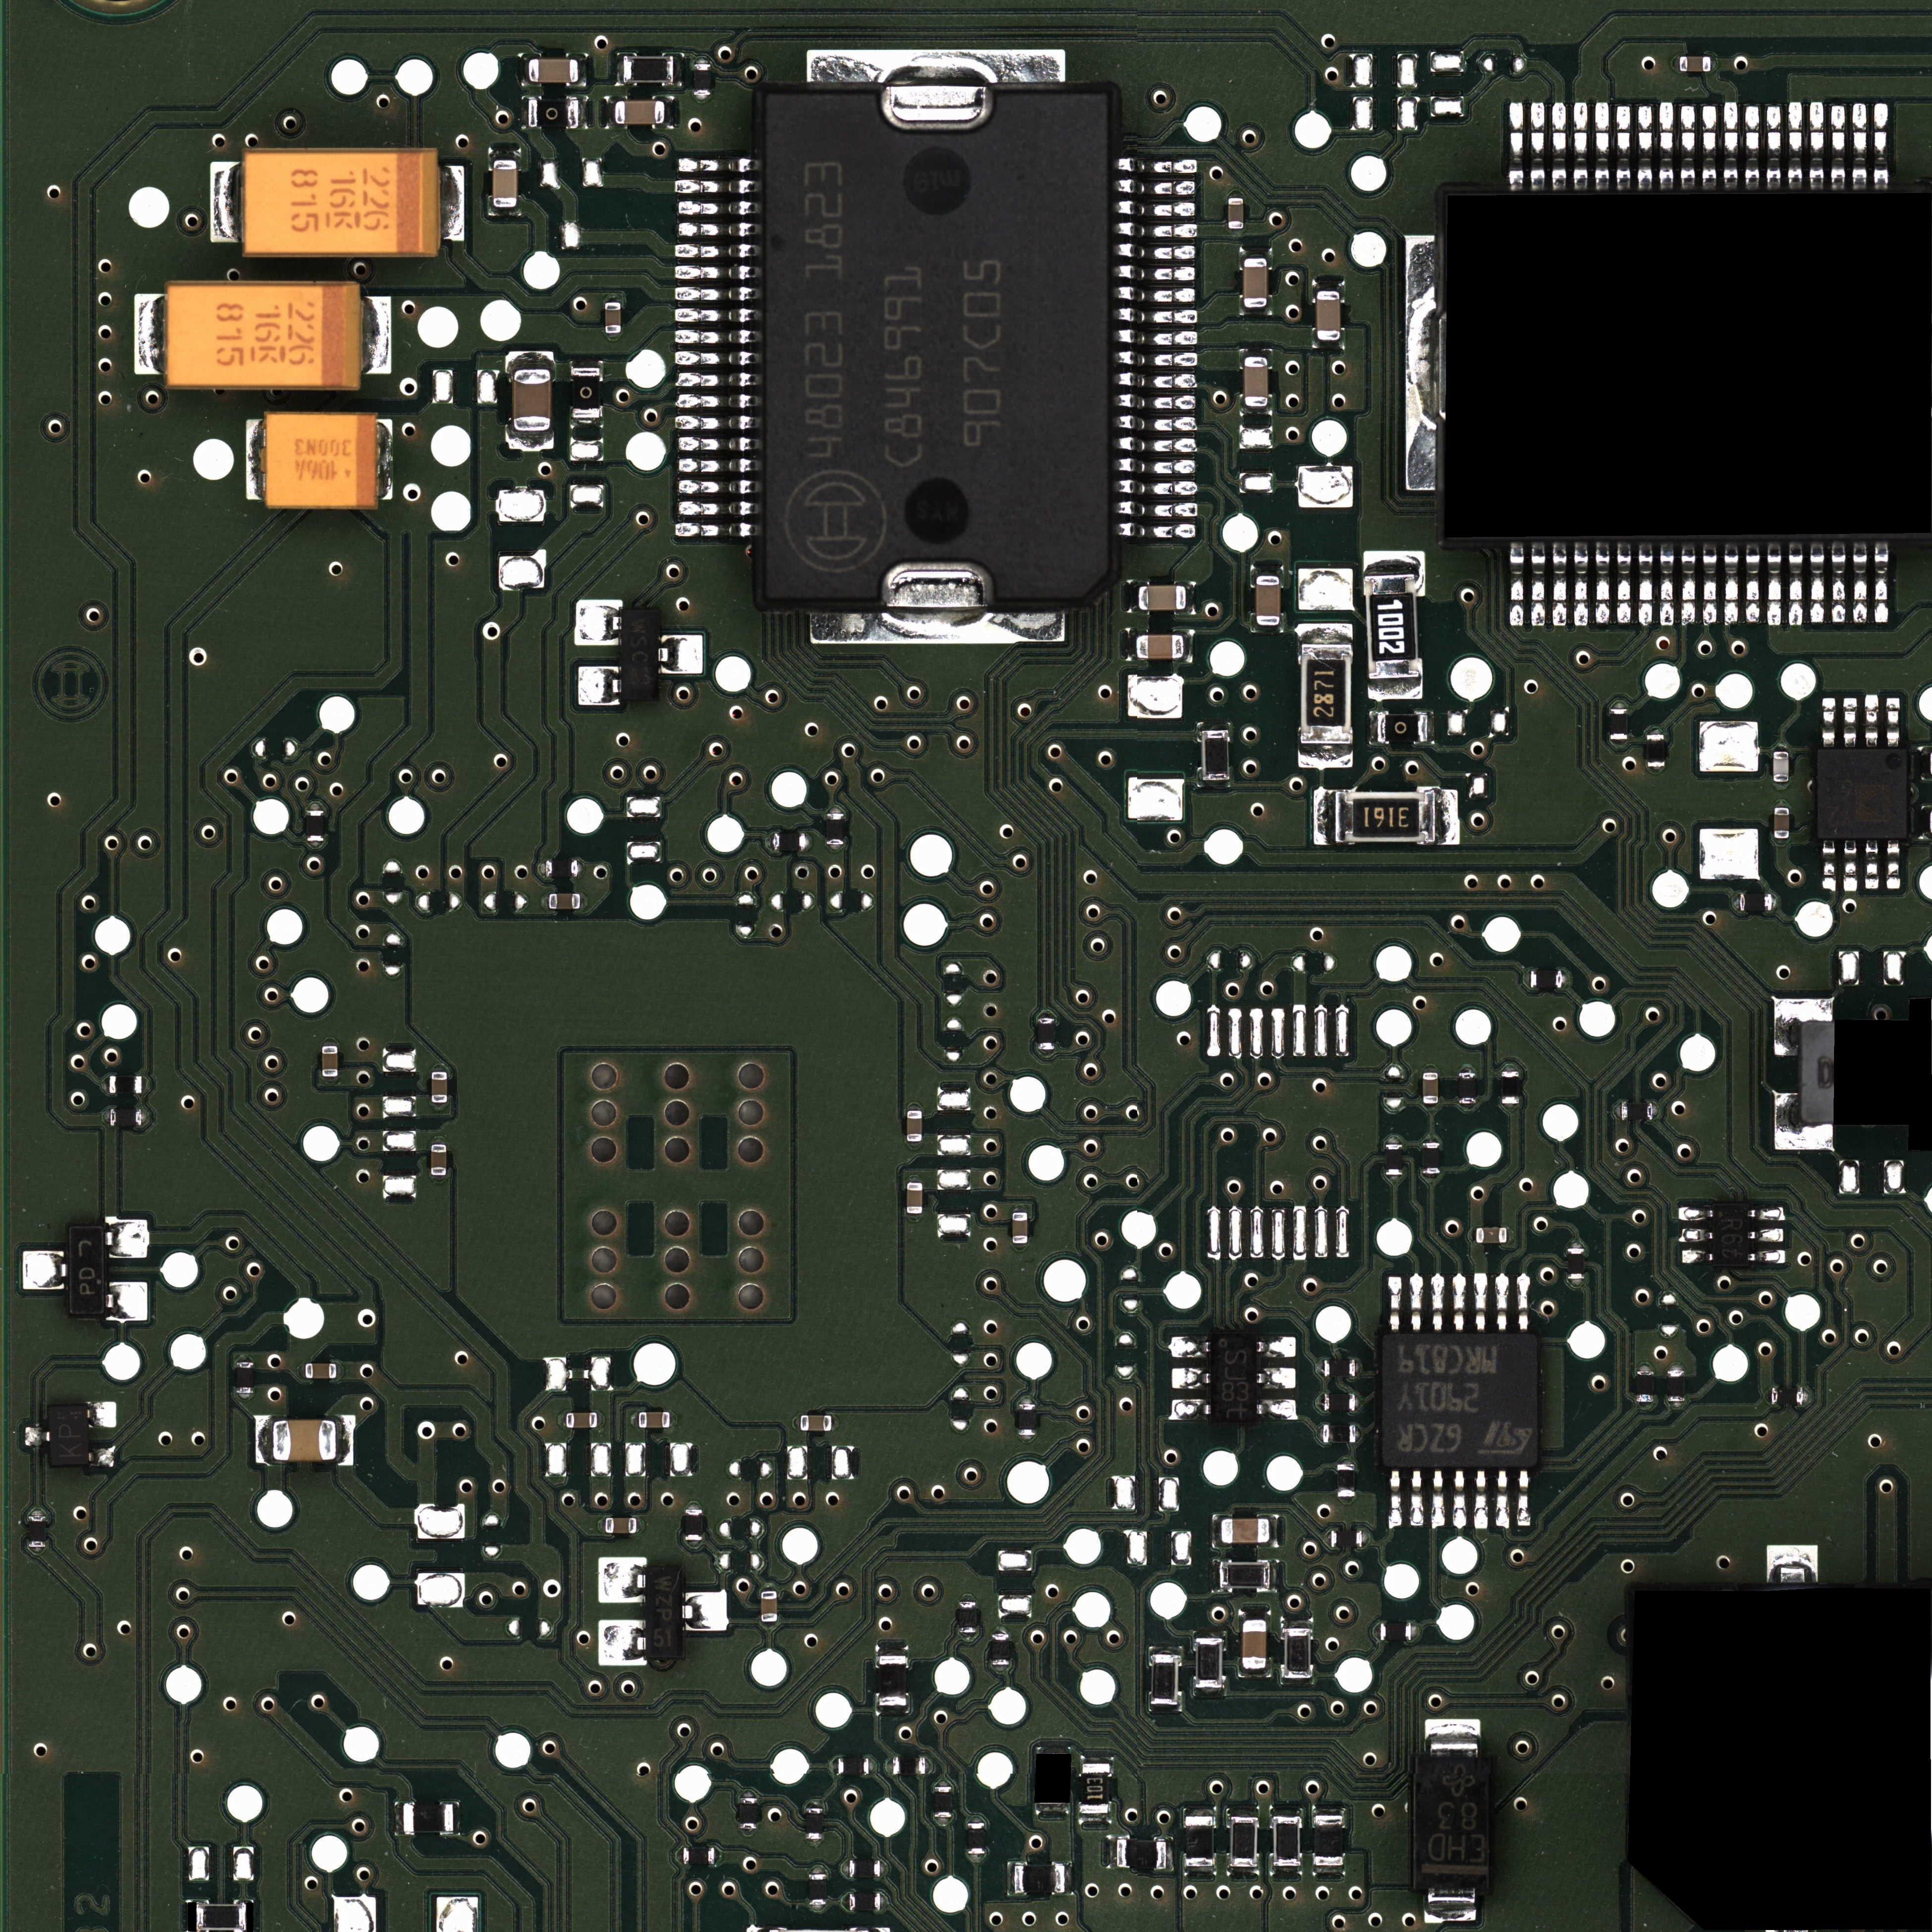Package: (764, 94, 1109, 598), (1382, 1332, 1537, 1468), (168, 285, 361, 387), (244, 152, 437, 255), (265, 414, 377, 508), (1414, 1755, 1490, 1888), (1817, 748, 1907, 839), (1366, 575, 1421, 678), (1300, 644, 1352, 745), (1336, 791, 1435, 842), (1210, 1334, 1256, 1422), (621, 609, 658, 699), (648, 1568, 683, 1658), (69, 1226, 104, 1315), (272, 1419, 336, 1461), (513, 370, 552, 430), (50, 1407, 88, 1465), (1713, 1203, 1748, 1265), (1376, 713, 1428, 741), (1014, 1865, 1065, 1893), (529, 99, 579, 127), (571, 368, 600, 418), (403, 1805, 453, 1833), (1315, 1815, 1343, 1865), (1185, 1817, 1214, 1867), (1116, 1840, 1166, 1868), (1081, 1764, 1109, 1813), (623, 57, 674, 83), (879, 1656, 906, 1706), (1196, 1638, 1223, 1688), (1221, 1562, 1270, 1589), (1152, 1654, 1178, 1704), (1284, 1628, 1311, 1677), (196, 1904, 246, 1930), (614, 101, 665, 126), (1316, 290, 1341, 341), (529, 58, 579, 83), (1203, 731, 1228, 780), (1244, 357, 1269, 407), (1256, 575, 1281, 625), (1274, 1817, 1299, 1867), (1231, 1817, 1256, 1867), (1138, 586, 1185, 610), (1242, 1621, 1267, 1668), (1221, 1518, 1269, 1543), (1244, 258, 1267, 308), (494, 159, 517, 207), (1136, 635, 1184, 658), (1500, 1070, 1520, 1104), (1530, 970, 1562, 989), (1037, 1017, 1056, 1049), (1323, 1424, 1355, 1444), (773, 833, 805, 851), (306, 810, 324, 842), (694, 64, 711, 96), (545, 860, 577, 878), (685, 1509, 702, 1541), (683, 1847, 715, 1865), (809, 1874, 826, 1905), (28, 1516, 46, 1548), (805, 1808, 823, 1840), (959, 1601, 977, 1633), (849, 1893, 881, 1911), (968, 1822, 985, 1854), (893, 1757, 925, 1775), (235, 1362, 253, 1394), (849, 1859, 881, 1877), (740, 1798, 757, 1829), (110, 1109, 142, 1127), (110, 1076, 142, 1093), (1647, 734, 1665, 766), (1739, 893, 1771, 911), (1458, 1072, 1476, 1104), (1621, 1102, 1652, 1120), (1323, 1359, 1355, 1376), (1380, 1622, 1412, 1640), (1338, 1465, 1355, 1497), (1323, 1394, 1355, 1412), (826, 814, 844, 844), (993, 1635, 1010, 1665), (934, 1787, 952, 1817), (839, 1757, 869, 1775), (1610, 709, 1628, 740), (1422, 1143, 1440, 1173), (1017, 1405, 1035, 1435), (1637, 1371, 1654, 1401), (1385, 1145, 1403, 1175), (1568, 1249, 1585, 1279), (1667, 1371, 1684, 1401), (548, 893, 580, 909), (605, 1518, 637, 1534), (908, 1182, 924, 1214), (761, 1591, 777, 1622), (322, 1046, 338, 1077), (800, 1415, 832, 1431), (1679, 57, 1711, 73), (1422, 1072, 1438, 1104), (1476, 1228, 1507, 1244), (1012, 1212, 1028, 1244), (1330, 1530, 1362, 1546), (605, 303, 621, 333), (432, 1072, 448, 1102), (566, 1412, 596, 1428), (639, 1412, 669, 1428), (1228, 198, 1244, 228), (1773, 752, 1789, 782), (1773, 1389, 1803, 1405), (432, 1145, 446, 1175), (908, 1111, 922, 1141), (306, 1364, 336, 1378), (1775, 809, 1789, 839)
Solder: (807, 50, 1067, 88), (809, 610, 1067, 646), (1403, 234, 1437, 492), (1773, 996, 1833, 1056), (1773, 1093, 1835, 1152), (211, 163, 244, 242), (134, 294, 168, 373), (361, 297, 391, 375), (598, 1621, 646, 1667), (598, 1557, 646, 1603), (575, 600, 621, 646), (1424, 1720, 1481, 1757), (1766, 1545, 1819, 1583), (441, 166, 465, 241), (1424, 1890, 1476, 1923), (23, 1251, 67, 1290), (658, 635, 702, 674), (683, 1592, 727, 1631), (106, 1281, 147, 1322), (106, 1219, 149, 1258), (579, 667, 621, 706), (1507, 101, 1525, 191), (1529, 101, 1546, 191), (1571, 101, 1589, 191), (1550, 101, 1568, 191), (1637, 101, 1654, 191), (1615, 101, 1633, 191), (1592, 101, 1610, 191), (1700, 101, 1718, 191), (1679, 101, 1697, 191), (1658, 101, 1675, 191), (1766, 101, 1783, 191), (1744, 101, 1762, 191), (1723, 101, 1741, 191), (1808, 101, 1826, 191), (1787, 101, 1805, 191), (1829, 101, 1847, 191), (1872, 101, 1890, 191), (1851, 101, 1868, 191), (246, 419, 265, 501), (674, 264, 761, 281), (674, 306, 761, 324), (1364, 550, 1426, 575), (1573, 541, 1591, 628), (1552, 541, 1569, 628), (1679, 541, 1697, 628), (1658, 541, 1675, 628), (1702, 541, 1720, 628), (1115, 329, 1200, 347), (1507, 541, 1525, 626), (1529, 541, 1546, 626), (1615, 543, 1633, 628), (1594, 543, 1612, 628), (1637, 543, 1654, 628), (1743, 541, 1760, 626), (1851, 541, 1868, 626), (1829, 541, 1847, 626), (1766, 541, 1783, 626), (1787, 541, 1805, 626), (1808, 541, 1826, 626), (1872, 541, 1890, 626), (1115, 501, 1198, 518), (1115, 179, 1196, 196), (674, 329, 761, 345), (674, 350, 761, 366), (674, 287, 761, 303), (676, 393, 761, 409), (676, 414, 761, 430), (676, 372, 761, 387), (676, 179, 761, 195), (676, 242, 761, 258), (676, 501, 761, 517), (676, 522, 761, 538), (1115, 479, 1200, 495), (1723, 541, 1739, 626), (678, 157, 761, 173), (678, 458, 761, 474), (678, 221, 761, 237), (678, 479, 761, 495), (678, 200, 761, 216), (1115, 395, 1198, 410), (1115, 458, 1198, 474), (1115, 416, 1198, 432), (1113, 287, 1196, 303), (1115, 223, 1198, 239), (1115, 352, 1198, 368), (1115, 437, 1198, 453), (1297, 745, 1353, 768), (377, 419, 393, 501), (1116, 157, 1198, 173), (1115, 202, 1196, 218), (1116, 308, 1198, 324), (1115, 265, 1196, 281), (1115, 373, 1196, 389), (1115, 244, 1196, 260), (1115, 524, 1196, 540), (1313, 789, 1334, 846), (1297, 623, 1353, 644), (1437, 789, 1458, 846), (1368, 679, 1422, 701), (678, 437, 759, 451), (506, 350, 556, 370), (506, 432, 554, 451), (255, 1415, 272, 1465), (336, 1415, 354, 1465), (1169, 1336, 1210, 1357), (1431, 1272, 1445, 1332), (1495, 1272, 1509, 1332), (1474, 1272, 1488, 1332), (1171, 1368, 1210, 1389), (1171, 1399, 1210, 1421), (1258, 1368, 1297, 1389), (1431, 1470, 1445, 1529), (1453, 1470, 1467, 1529), (1474, 1470, 1488, 1529), (1495, 1470, 1509, 1529), (1410, 1470, 1424, 1527), (1516, 1470, 1530, 1527), (1258, 1338, 1297, 1357), (1258, 1399, 1297, 1419), (88, 1401, 117, 1428), (1410, 1272, 1422, 1332), (1453, 1272, 1465, 1332), (1516, 1272, 1529, 1332), (1865, 695, 1879, 747), (1822, 840, 1836, 892), (1844, 840, 1858, 892), (1389, 1470, 1401, 1529), (1389, 1276, 1401, 1332), (1865, 840, 1879, 890), (1886, 840, 1900, 890), (1822, 697, 1836, 747), (1886, 697, 1900, 747), (1844, 697, 1858, 747), (1748, 1207, 1785, 1221), (88, 1447, 115, 1467), (1748, 1228, 1783, 1242), (25, 1426, 50, 1445), (1679, 1207, 1713, 1221), (1748, 1251, 1785, 1263), (1681, 1228, 1713, 1242), (1683, 1249, 1713, 1263), (570, 418, 603, 428), (1125, 628, 1136, 662), (1226, 1806, 1260, 1817), (488, 149, 520, 159), (605, 97, 616, 129), (876, 1645, 908, 1656), (1240, 248, 1272, 258), (1185, 582, 1196, 614), (1127, 580, 1138, 612), (1313, 1865, 1345, 1875), (1228, 1867, 1260, 1877), (488, 207, 522, 216), (395, 1801, 403, 1835), (455, 1801, 464, 1835), (579, 96, 587, 129), (674, 53, 683, 87), (579, 53, 587, 87), (876, 1706, 909, 1714), (1198, 780, 1231, 789), (1428, 711, 1437, 745), (1269, 1806, 1302, 1815), (1148, 1645, 1182, 1654), (1212, 1514, 1221, 1548), (1035, 1805, 1069, 1813), (1192, 1688, 1226, 1697), (1192, 1629, 1226, 1638), (520, 53, 529, 85), (570, 359, 602, 368), (665, 97, 674, 129), (520, 97, 529, 129), (1240, 407, 1272, 416), (1240, 349, 1272, 357), (1313, 281, 1345, 290), (1251, 566, 1283, 575), (1184, 630, 1192, 662), (1270, 1514, 1279, 1546), (1184, 1806, 1215, 1815), (1079, 1813, 1111, 1822), (1184, 1867, 1215, 1875), (1270, 1867, 1302, 1875), (1281, 1619, 1313, 1628), (1313, 1806, 1345, 1815), (1238, 1668, 1270, 1677), (1210, 1560, 1219, 1592), (1238, 1610, 1270, 1619), (1270, 1560, 1279, 1591), (1079, 1755, 1115, 1762), (1007, 1861, 1014, 1897), (1198, 722, 1231, 729), (1369, 711, 1376, 745), (1148, 1706, 1182, 1713), (616, 53, 623, 85), (1313, 341, 1345, 349), (1240, 308, 1272, 315), (1251, 626, 1283, 633), (1065, 1863, 1072, 1895), (1039, 1746, 1070, 1753), (1281, 1679, 1313, 1686), (1168, 1838, 1173, 1872), (1111, 1836, 1116, 1870), (685, 1500, 704, 1509), (1315, 1424, 1323, 1444), (142, 1109, 150, 1127), (934, 1817, 952, 1826), (1355, 1394, 1364, 1412), (1322, 1530, 1330, 1548), (1732, 892, 1739, 913), (832, 1415, 840, 1431), (906, 1214, 922, 1223), (596, 1518, 605, 1534), (1019, 1435, 1035, 1444), (1355, 1426, 1364, 1442), (1773, 893, 1780, 913), (1523, 970, 1530, 989), (101, 1076, 108, 1093), (142, 1076, 149, 1093), (28, 1509, 46, 1516), (694, 96, 711, 103), (694, 57, 711, 64), (715, 1847, 722, 1865), (805, 1801, 823, 1808), (740, 1790, 757, 1798), (809, 1905, 826, 1913), (959, 1594, 977, 1601), (676, 1847, 683, 1865), (809, 1867, 826, 1874), (685, 1541, 702, 1548), (959, 1633, 977, 1640), (881, 1893, 888, 1911), (968, 1854, 985, 1861), (1355, 1359, 1362, 1376), (1316, 1394, 1323, 1412), (1316, 1359, 1323, 1376), (1422, 1136, 1440, 1143), (1385, 1175, 1403, 1182), (1412, 1622, 1419, 1640), (1338, 1497, 1355, 1504), (1773, 800, 1790, 807), (1562, 970, 1569, 987), (1647, 727, 1665, 734), (1458, 1065, 1476, 1072), (1667, 1362, 1684, 1369), (1502, 1104, 1520, 1111), (1614, 1102, 1621, 1120), (1637, 1364, 1654, 1371), (1652, 1102, 1660, 1120), (1668, 1401, 1686, 1408), (1637, 1401, 1654, 1408), (1803, 1387, 1810, 1405), (1610, 740, 1628, 747), (1568, 1279, 1585, 1286), (322, 1077, 338, 1085), (432, 1065, 448, 1072), (432, 1102, 448, 1109), (322, 1039, 338, 1046), (103, 1109, 110, 1125), (237, 1355, 253, 1362), (605, 334, 621, 341), (605, 295, 621, 303), (826, 807, 842, 814), (580, 893, 587, 909), (805, 833, 812, 849), (632, 1412, 639, 1428), (906, 1102, 922, 1109), (793, 1415, 800, 1431), (671, 1412, 678, 1428), (906, 1143, 922, 1150), (559, 1412, 566, 1428), (598, 1412, 605, 1428), (740, 1829, 755, 1836), (637, 1516, 644, 1532), (830, 1759, 837, 1775), (842, 1893, 849, 1909), (968, 1815, 984, 1822), (881, 1861, 888, 1877), (869, 1759, 876, 1775), (842, 1861, 849, 1877), (1228, 191, 1244, 198), (1228, 228, 1244, 235), (1012, 1244, 1028, 1251), (1012, 1205, 1028, 1212), (1422, 1065, 1438, 1072), (1039, 1010, 1054, 1017), (1039, 1051, 1054, 1058), (1019, 1396, 1035, 1403), (1422, 1104, 1438, 1111), (1362, 1530, 1369, 1546), (993, 1665, 1008, 1672), (993, 1626, 1008, 1633), (1373, 1624, 1380, 1640), (1711, 57, 1718, 73), (1672, 57, 1679, 73), (1773, 745, 1789, 752), (1460, 1104, 1476, 1111), (1468, 1228, 1476, 1244), (1507, 1228, 1514, 1244), (432, 1175, 446, 1182), (432, 1138, 446, 1145), (908, 1175, 922, 1182), (306, 842, 324, 847), (306, 803, 324, 809), (235, 1394, 253, 1399), (28, 1548, 46, 1553), (826, 846, 844, 851), (768, 833, 773, 851), (934, 1780, 952, 1785), (1385, 1138, 1403, 1143), (1422, 1175, 1440, 1180), (1338, 1458, 1355, 1463), (1647, 768, 1665, 773), (1502, 1065, 1520, 1070), (1610, 702, 1628, 708), (1568, 1242, 1585, 1247), (886, 1759, 892, 1775), (807, 1840, 823, 1845), (761, 1585, 777, 1591), (1773, 782, 1789, 787), (1773, 839, 1789, 844), (299, 1364, 304, 1378), (540, 862, 545, 876), (579, 862, 584, 876), (543, 895, 548, 909), (927, 1759, 932, 1773), (1766, 1389, 1771, 1403), (338, 1362, 341, 1380), (761, 1622, 777, 1626)
